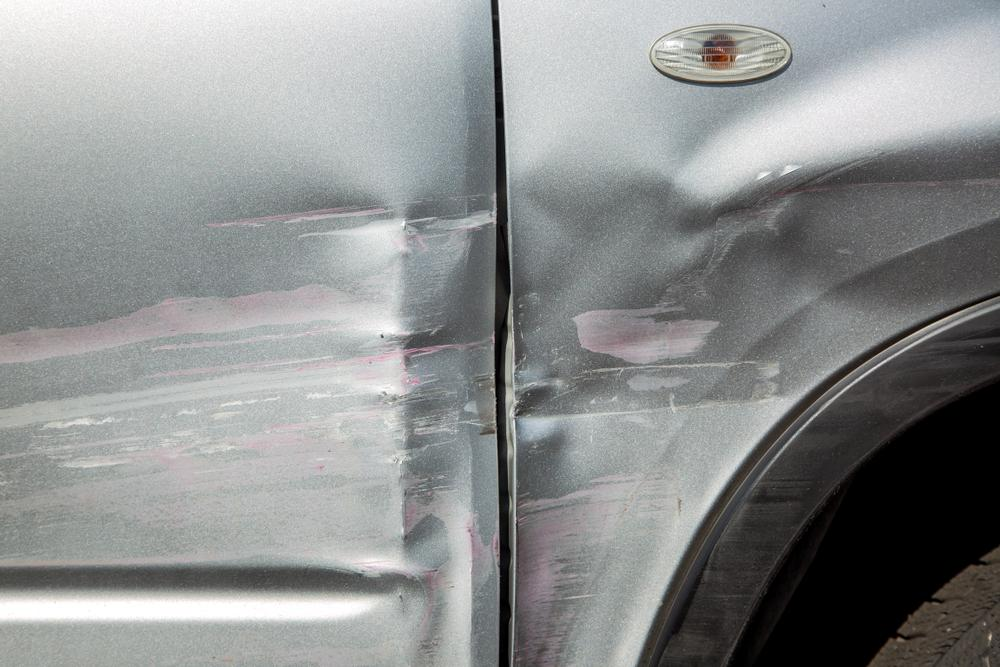dent: (514, 27, 1000, 667), (0, 179, 502, 661)
